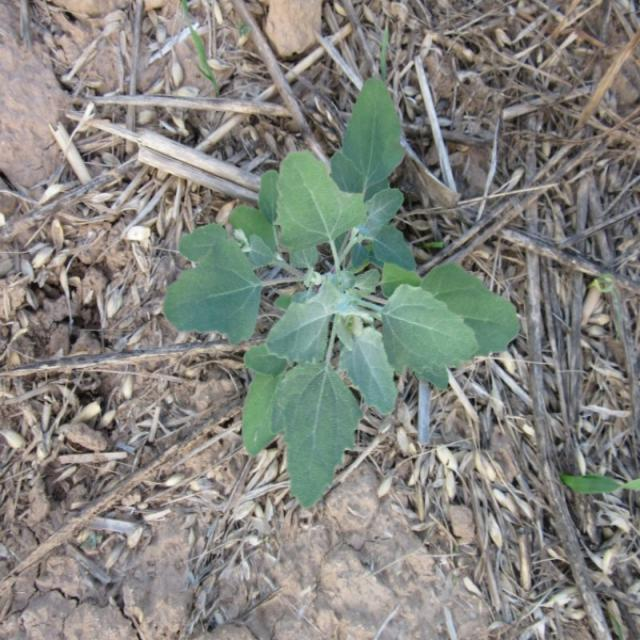ca: (167, 75, 522, 504)
